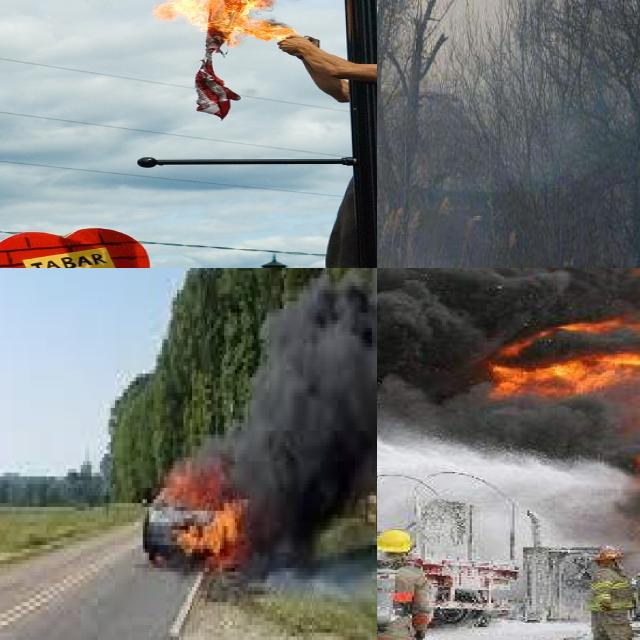fire: (459, 268, 640, 555), (147, 450, 261, 572), (153, 0, 298, 50)
smoke: (377, 268, 640, 466), (235, 268, 377, 568)
